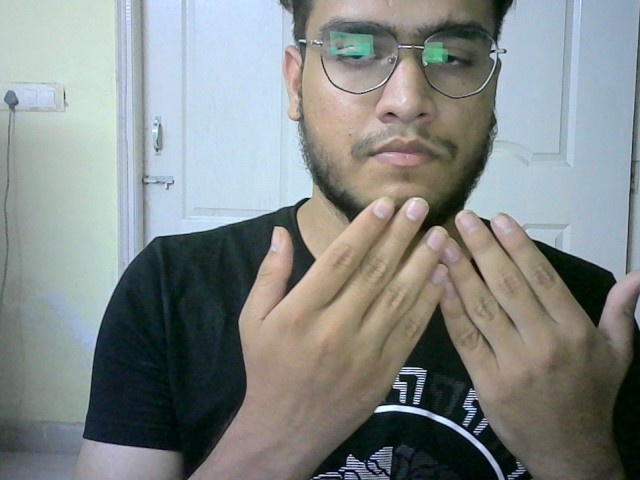Thank You: (233, 188, 640, 442)
